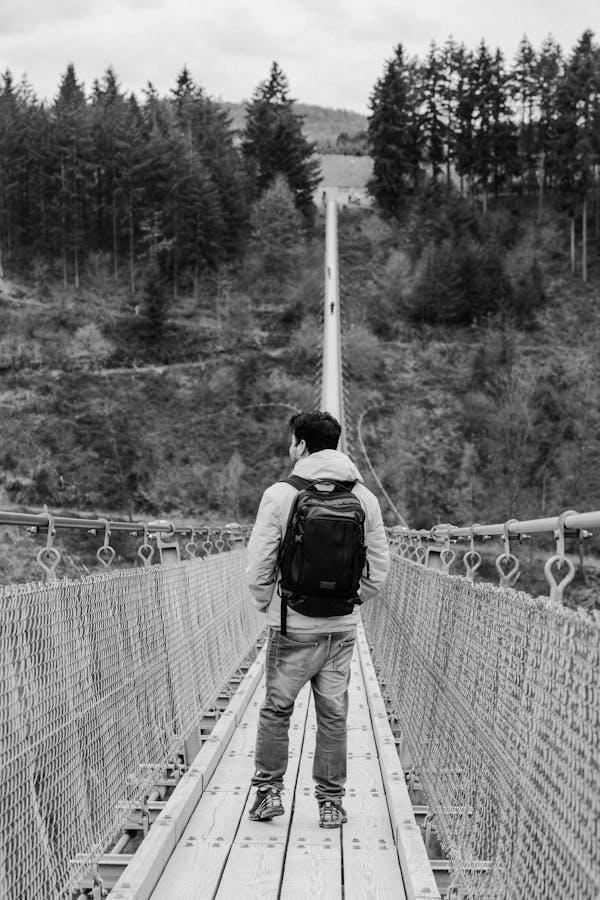Human: (226, 396, 379, 831)
